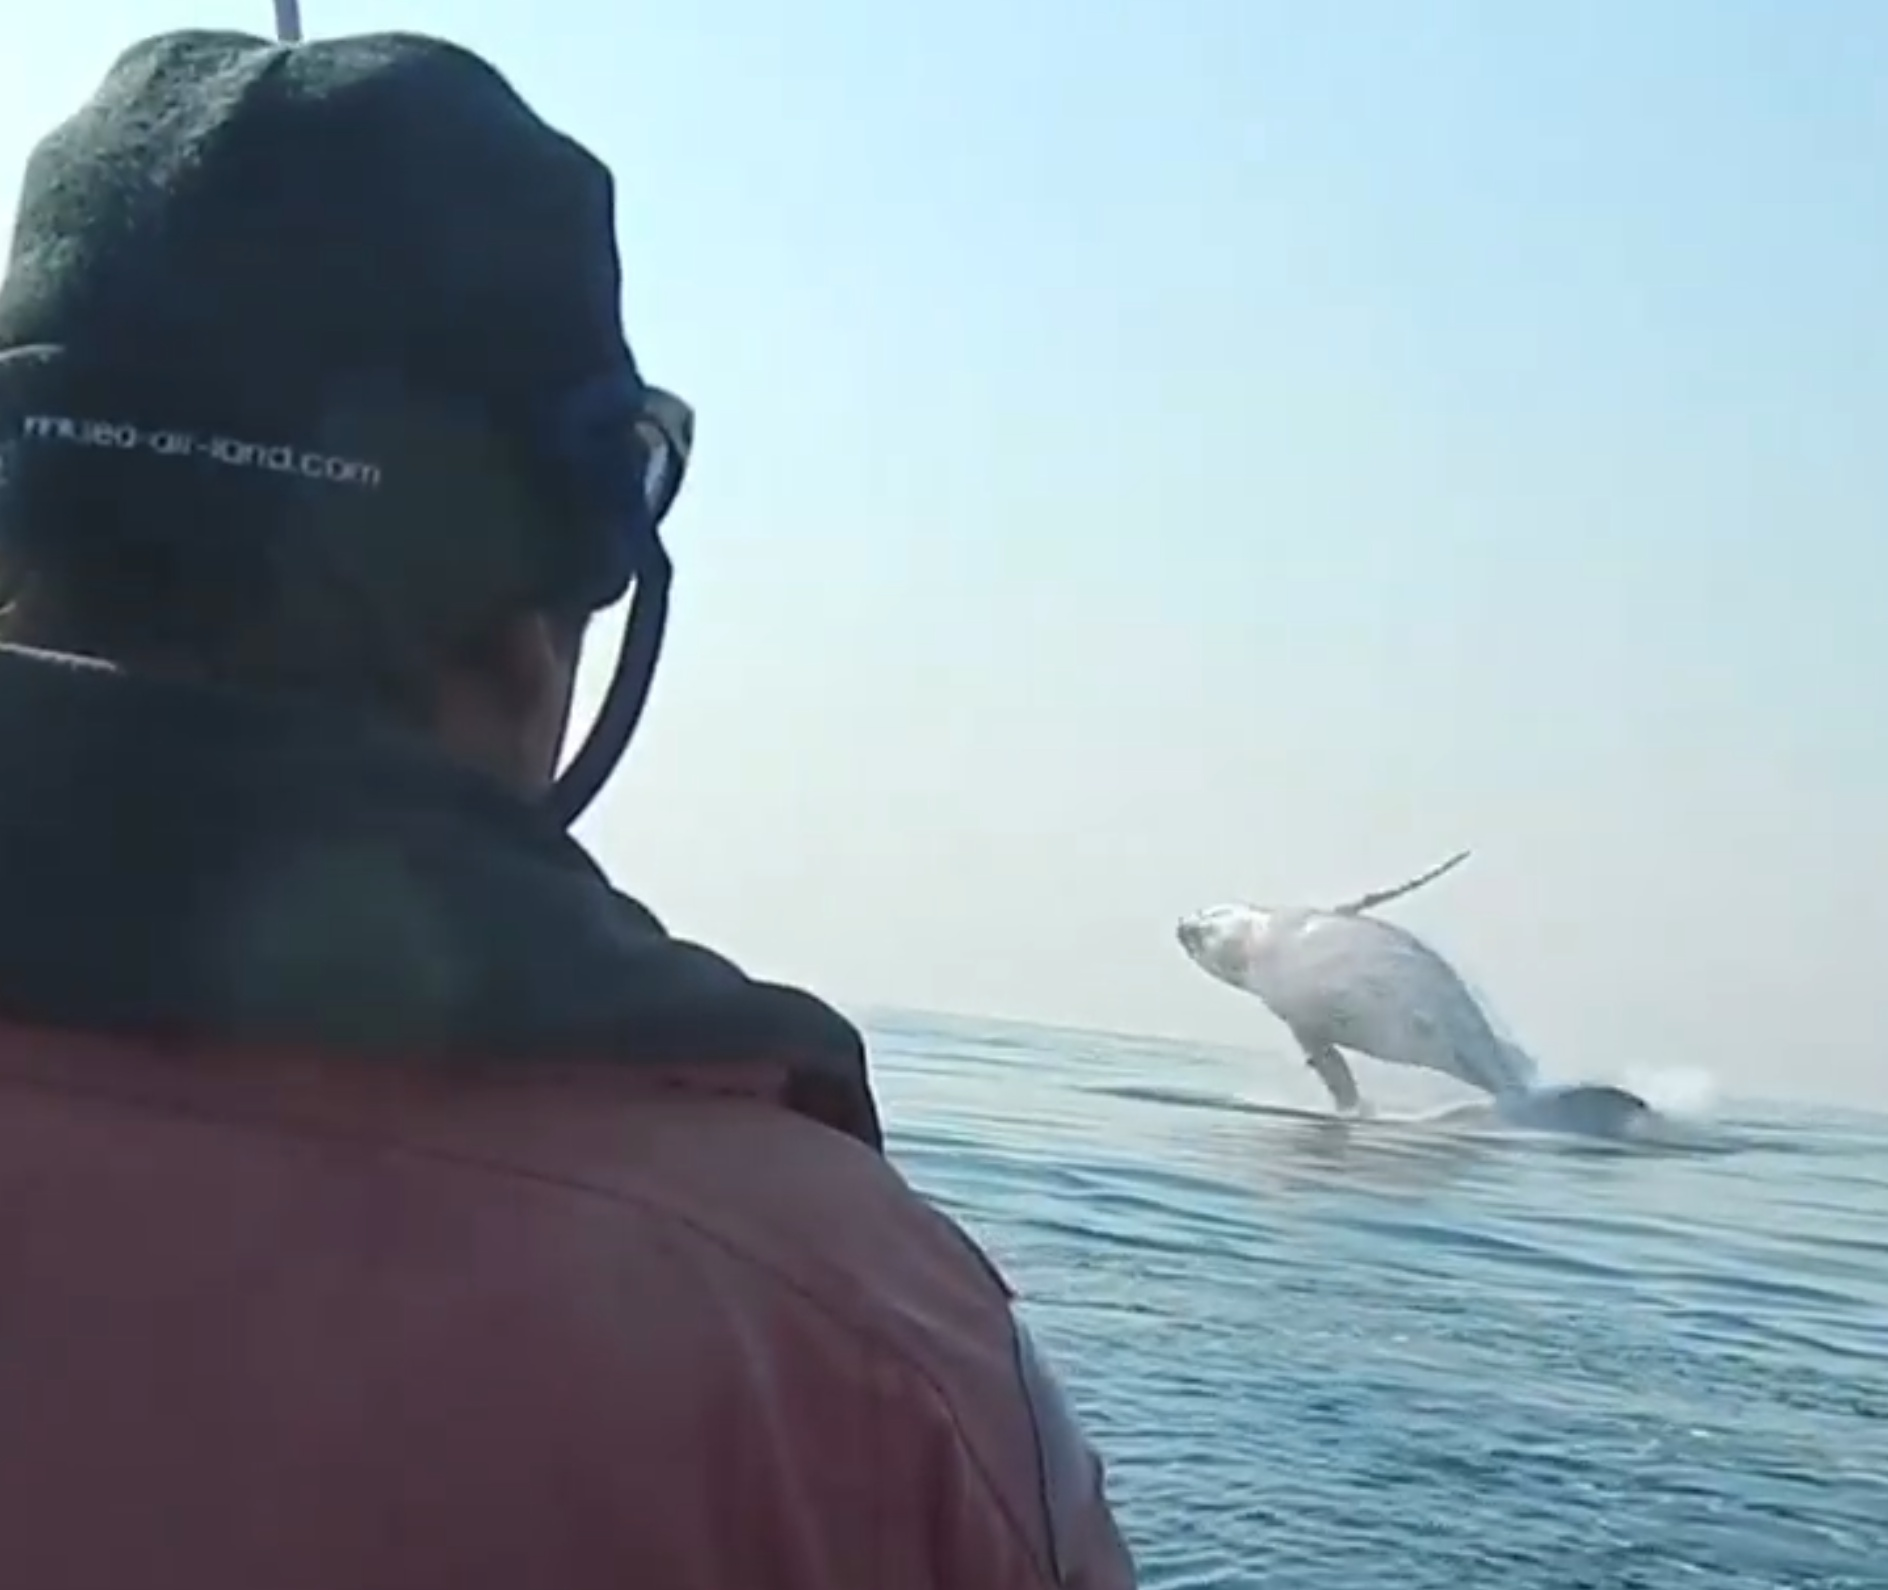humpback: (1169, 893, 1655, 1133)
